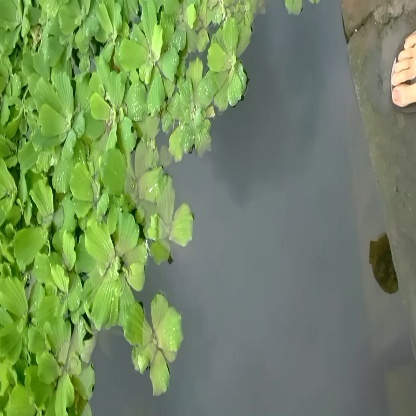leaf: (135, 294, 191, 398)
